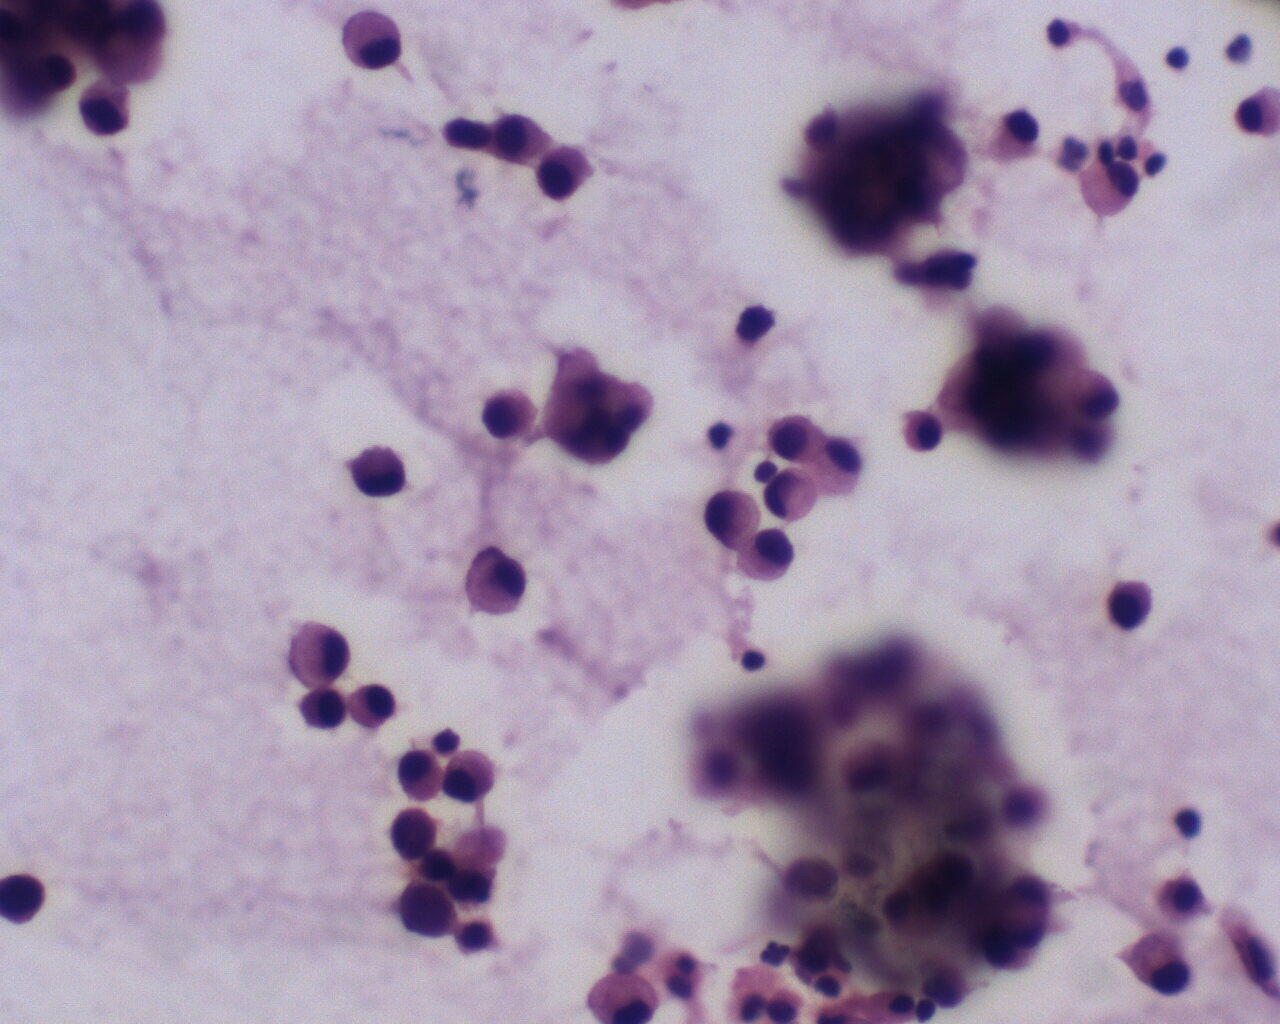lymph: (1162, 38, 1198, 80), (738, 643, 768, 678)
meso: (459, 542, 531, 620), (284, 619, 353, 688), (335, 11, 411, 73), (1079, 155, 1137, 219), (737, 525, 796, 585), (810, 436, 865, 501), (438, 744, 499, 801), (349, 682, 399, 731)
